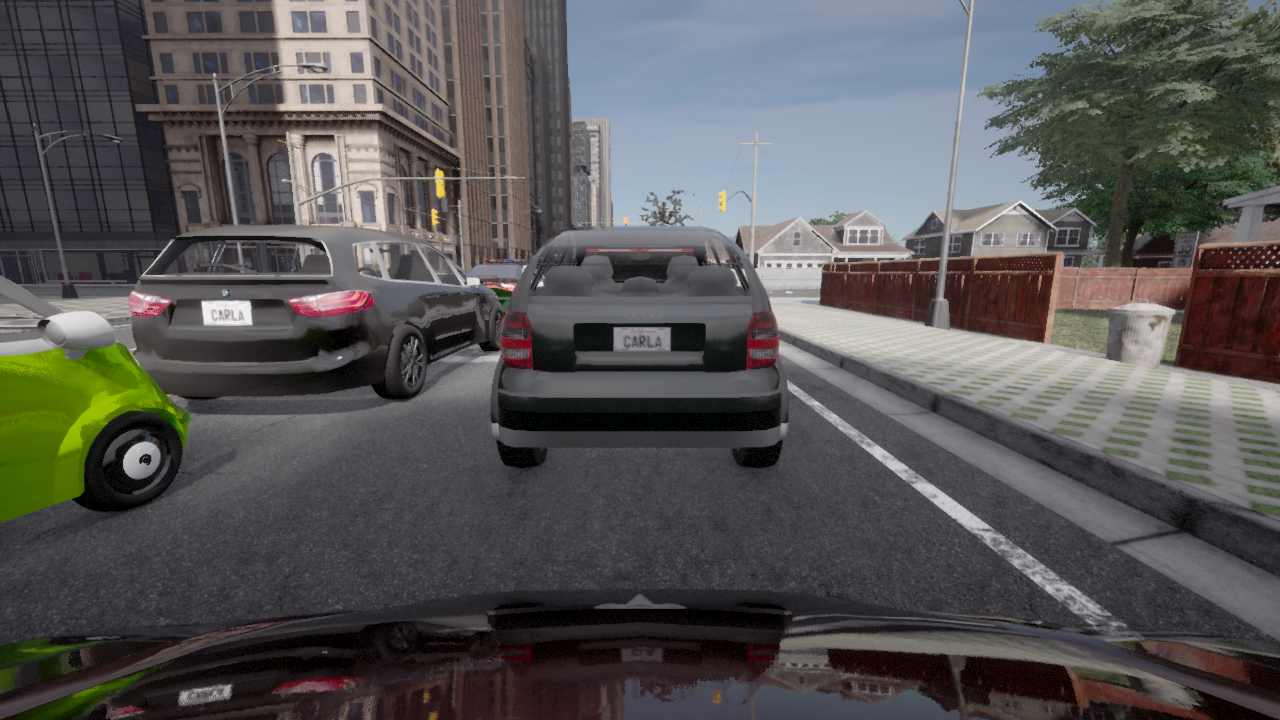cyclist: (0, 588, 1279, 719), (490, 226, 788, 467), (129, 225, 503, 399), (466, 259, 527, 316)
